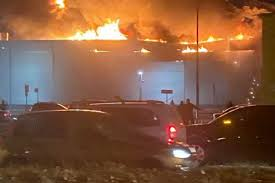fire: (40, 5, 252, 54)
